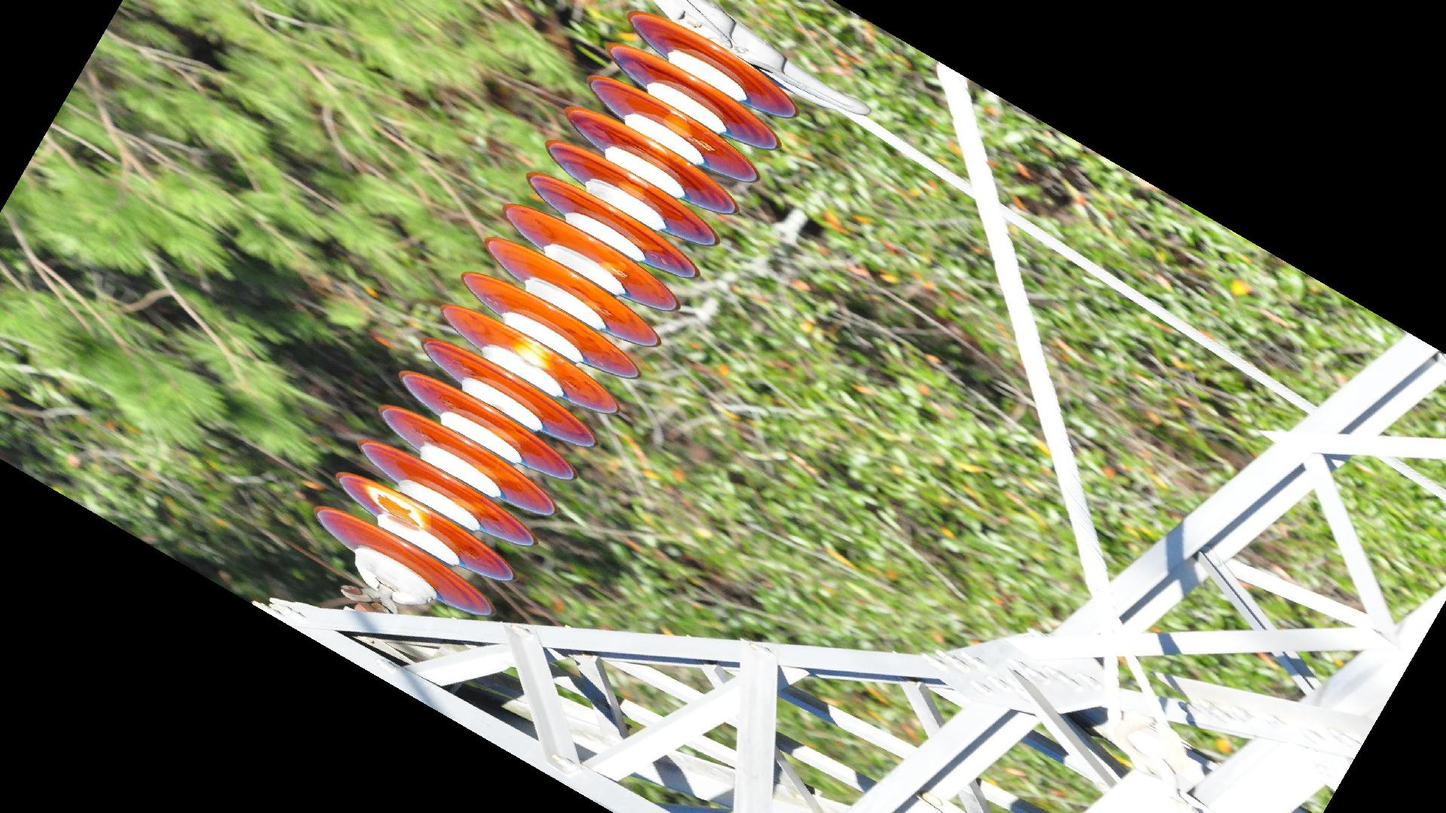insulator: (308, 8, 804, 623)
insulator_flashover: (361, 482, 429, 529), (512, 333, 553, 370), (660, 108, 696, 141)
